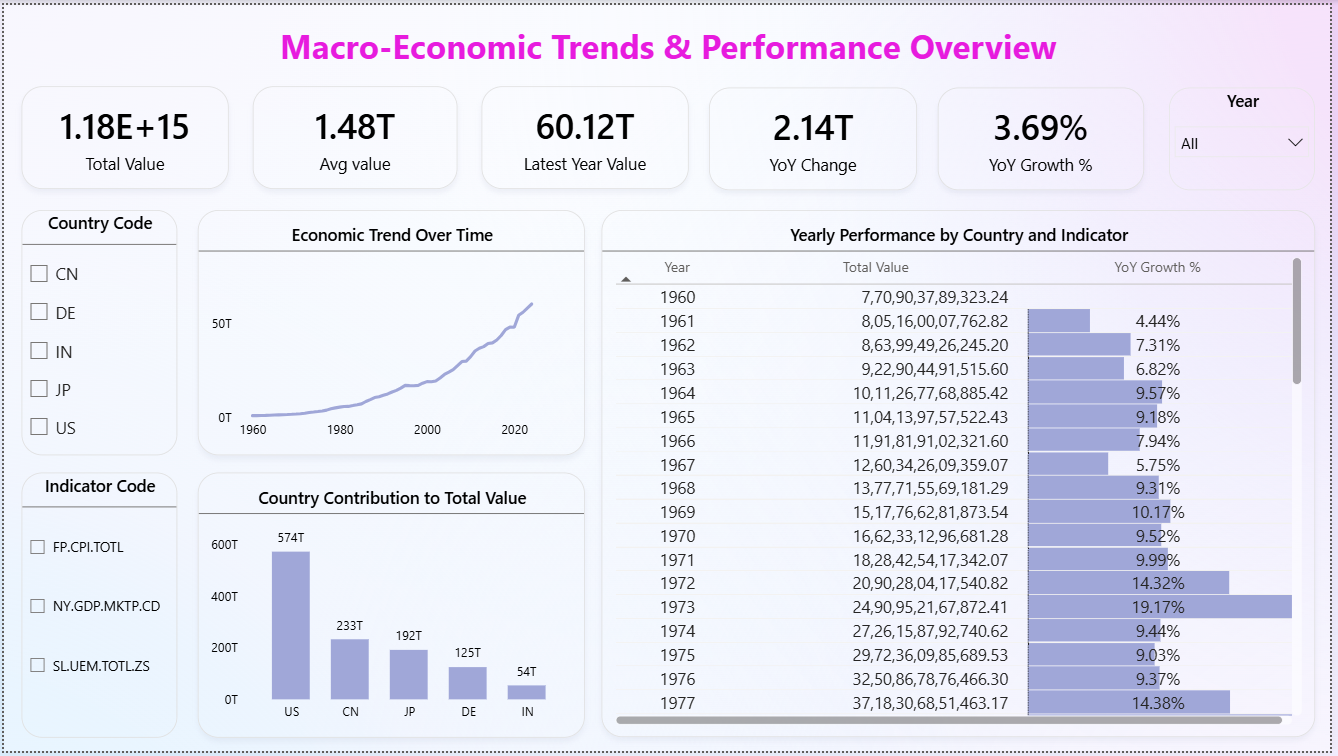

Layout of this report page (visuals, bound fields, positions):
{"tool":"powerbi","page":{"name":"Page 1","canvas":[1280,720],"ordinal":0},"visuals":[{"type":"lineChart","title":"Economic Trend Over Time","fields":{"Category":["fact_macro_annual.year"],"Y":["Sum(fact_macro_annual.value)"]},"box":[186.9,197.6,373.8,236.9],"z":0},{"type":"tableEx","title":"Yearly Performance by Country and Indicator","fields":{"Values":["fact_macro_annual.year","dim_country.Total Value","dim_country.YoY Growth %"]},"box":[576.7,197.9,688.9,509.1],"z":1000},{"type":"card","fields":{"Values":["dim_country.YoY Growth %"]},"box":[901.2,79.8,198.8,98.8],"z":2000},{"type":"clusteredColumnChart","title":"Country Contribution to Total Value","fields":{"Category":["fact_macro_annual.country_code"],"Y":["Sum(fact_macro_annual.value)"]},"box":[186.9,451.2,373.8,256],"z":3000},{"type":"card","fields":{"Values":["dim_country.YoY Change"]},"box":[681,79.8,201.2,98.8],"z":4000},{"type":"card","fields":{"Values":["dim_country.Latest Year Value"]},"box":[460.7,78.6,200,98.8],"z":5000},{"type":"card","fields":{"Values":["dim_country.Avg value"]},"box":[240.5,78.6,197.6,98.8],"z":6000},{"type":"card","fields":{"Values":["dim_country.Total Value"]},"box":[16.7,78.6,200,98.8],"z":7000},{"type":"slicer","title":"Country Code","fields":{"Values":["fact_macro_annual.country_code"]},"box":[16.7,197.6,150,236.9],"z":8000},{"type":"slicer","title":"Year","fields":{"Values":["fact_macro_annual.year"]},"box":[1124.4,79.6,141.2,98.9],"z":9000},{"type":"slicer","title":"Indicator Code","fields":{"Values":["fact_macro_annual.indicator_code"]},"box":[16.7,451.2,150,256],"z":10000},{"type":"textbox","box":[16.7,13.1,1248.8,54.8],"z":11000}]}

Visuals, with their boxes in screenshot pixels (x1, y1, x2, y2), scaled from the page's 1280x720 canvas onto the 1338x756 screenshot:
"Economic Trend Over Time" lineChart: left=195, top=207, right=586, bottom=456
"Yearly Performance by Country and Indicator" tableEx: left=603, top=208, right=1323, bottom=742
card - dim_country.YoY Growth %: left=942, top=84, right=1150, bottom=188
"Country Contribution to Total Value" clusteredColumnChart: left=195, top=474, right=586, bottom=743
card - dim_country.YoY Change: left=712, top=84, right=922, bottom=188
card - dim_country.Latest Year Value: left=482, top=83, right=691, bottom=186
card - dim_country.Avg value: left=251, top=83, right=458, bottom=186
card - dim_country.Total Value: left=17, top=83, right=227, bottom=186
"Country Code" slicer: left=17, top=207, right=174, bottom=456
"Year" slicer: left=1175, top=84, right=1323, bottom=187
"Indicator Code" slicer: left=17, top=474, right=174, bottom=743
textbox: left=17, top=14, right=1323, bottom=71
